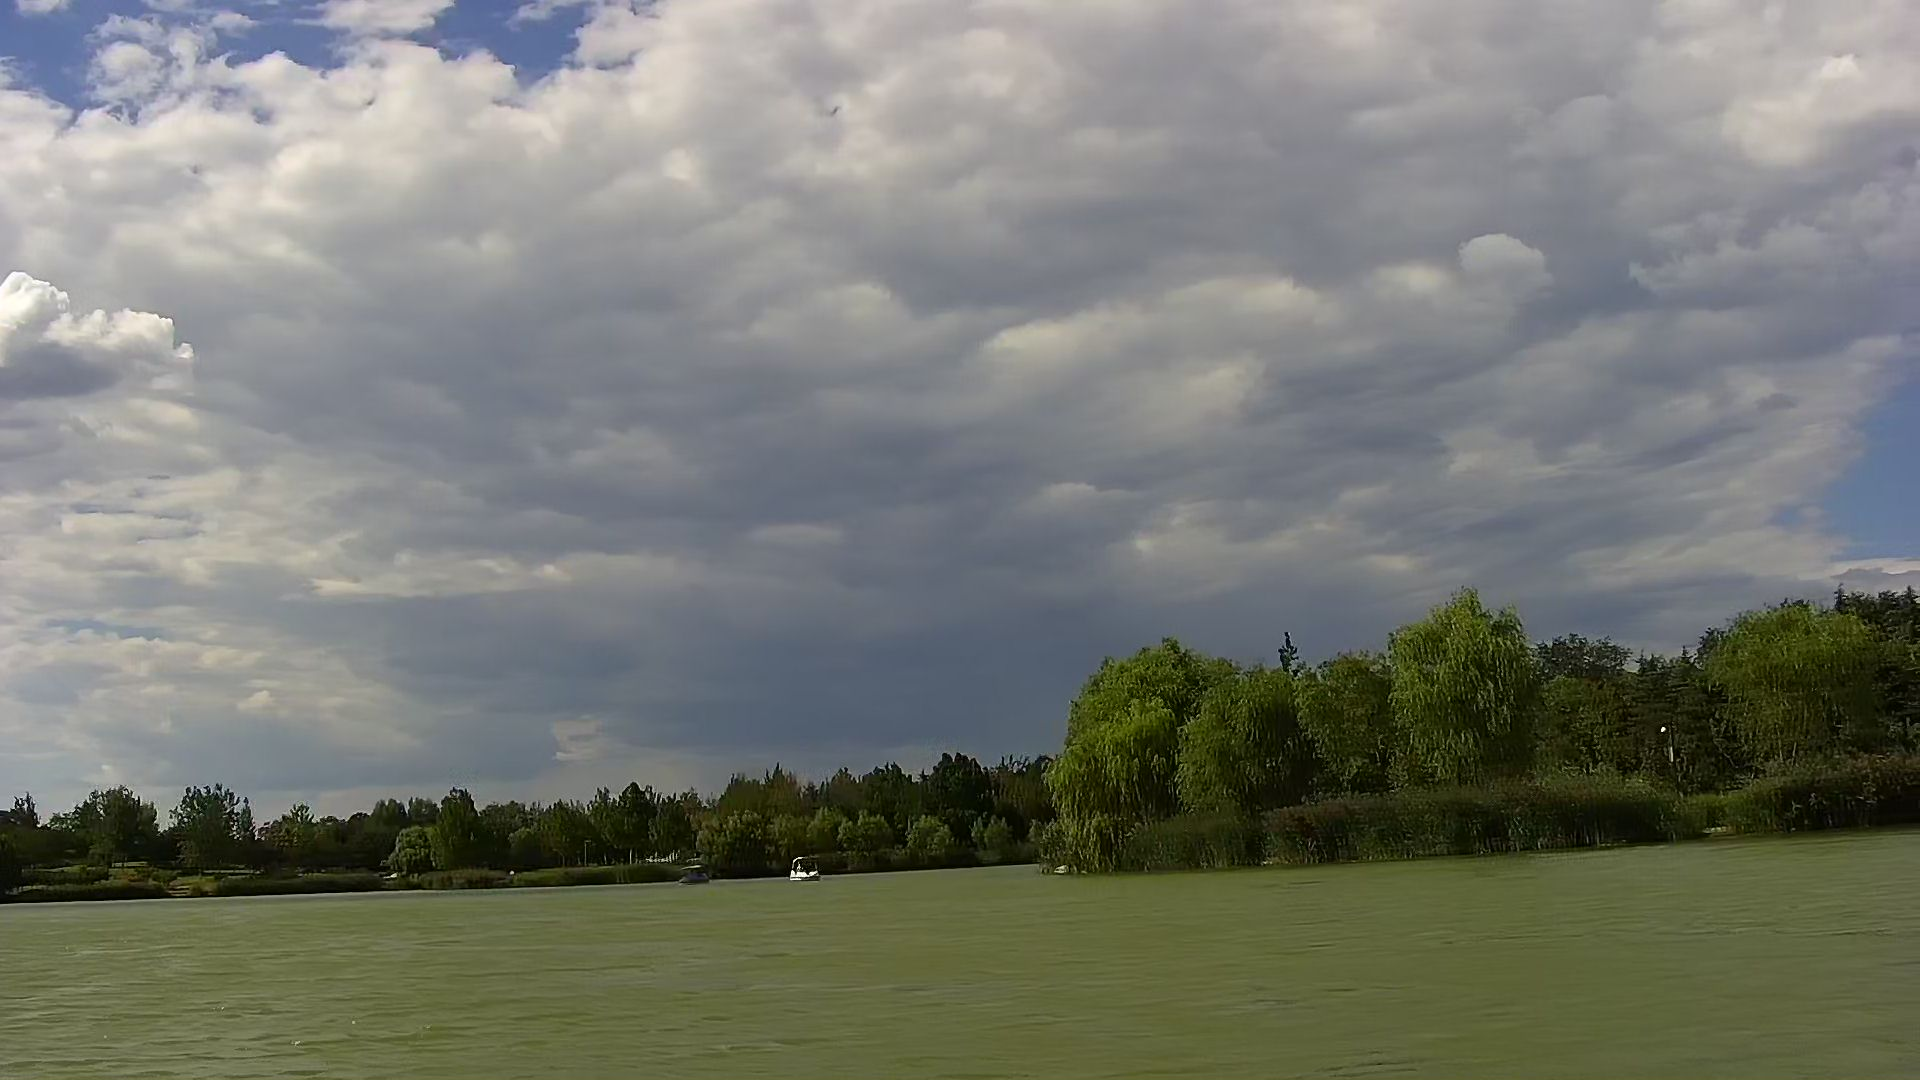boat: (782, 851, 819, 887)
